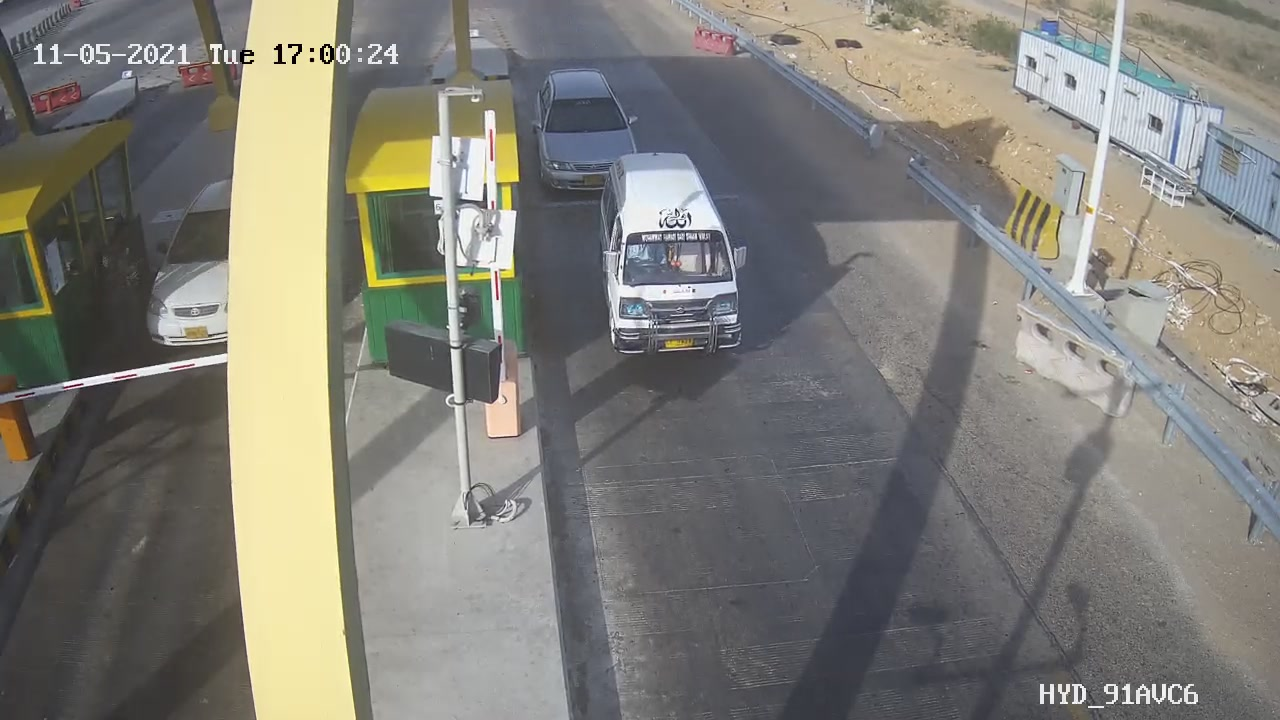F1: (586, 140, 764, 378), (522, 56, 655, 208)
